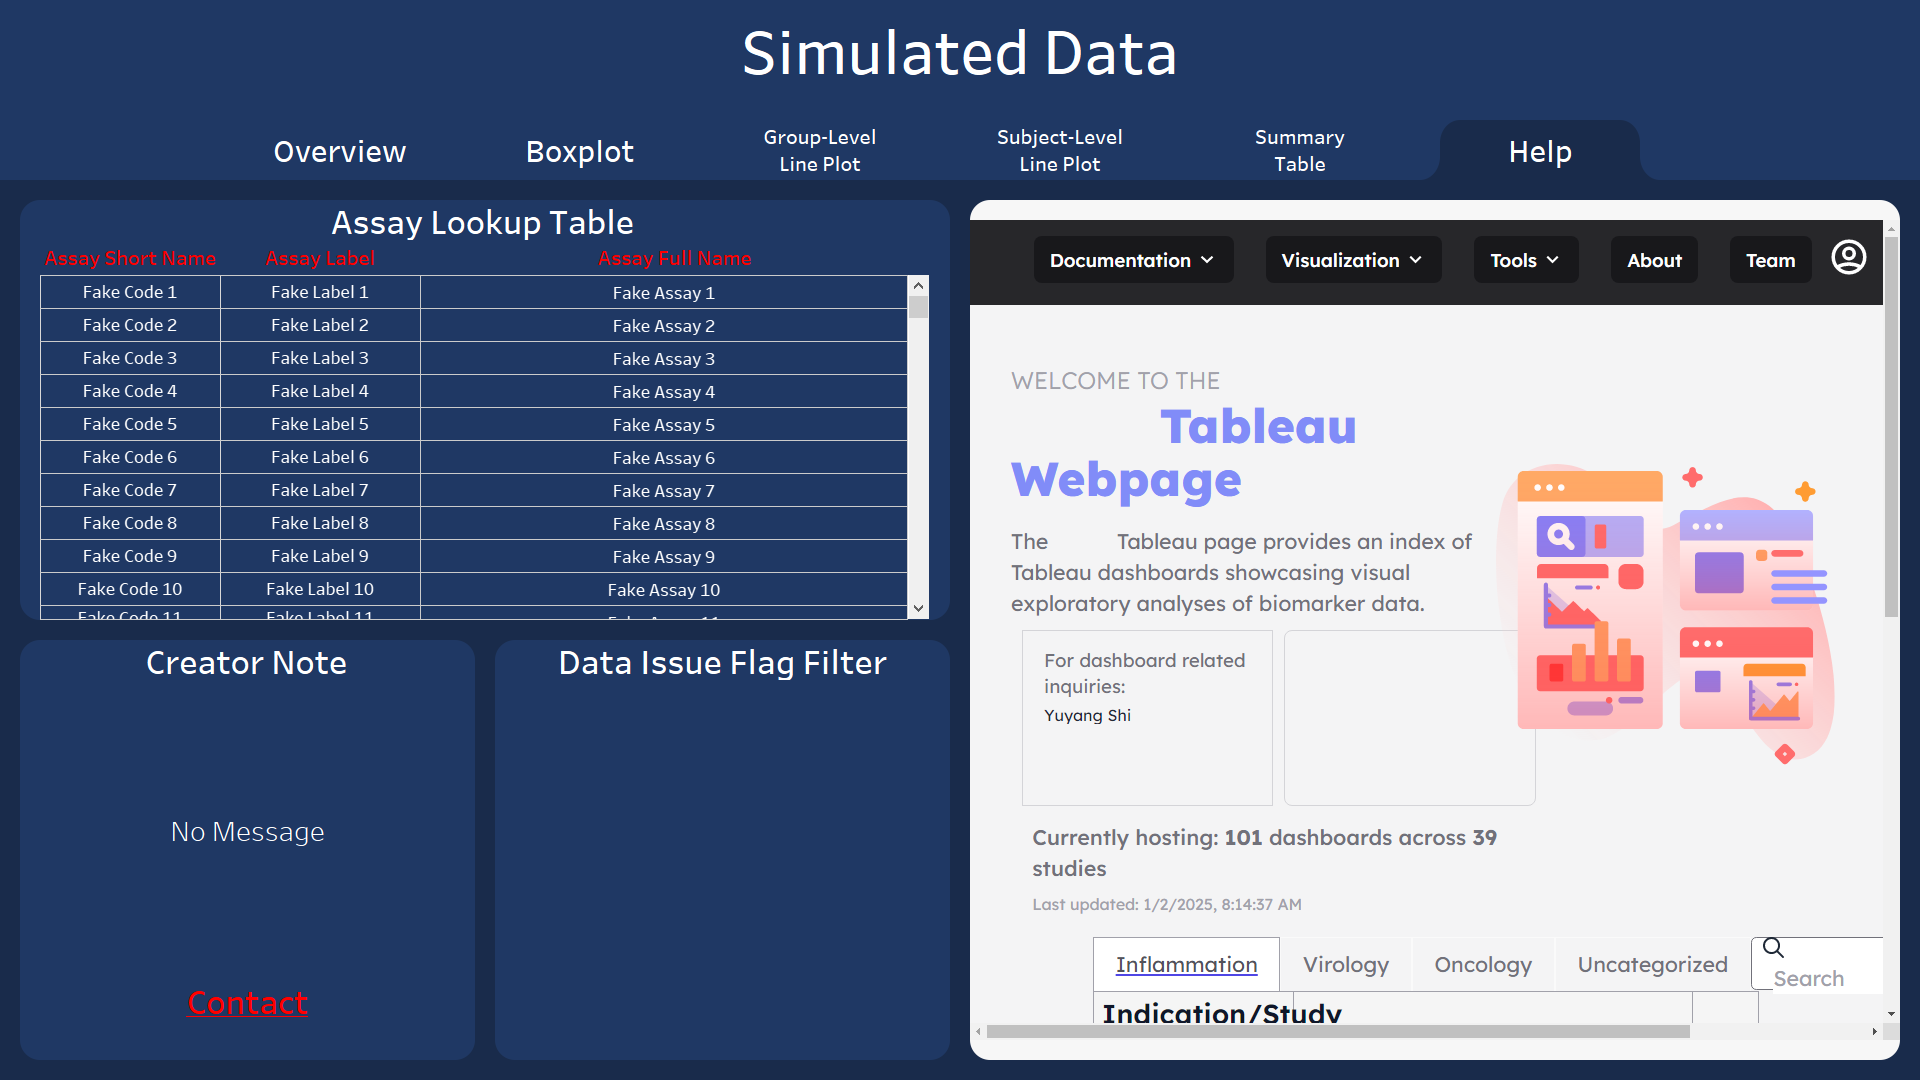

The page's visual inventory and layout, read from the dashboard file:
{"tool":"tableau","page":{"name":"Page 6","canvas":[1920,1080],"ordinal":5},"visuals":[{"type":"image","param":"./Images/Page 6.png","box":[0,0,1920,1080]},{"type":"text","box":[0,0,1920,100]},{"type":"image","param":"./Images/Logo.png","box":[1740,20,160,140]},{"type":"dashboard-object","box":[260,120,160,60]},{"type":"dashboard-object","box":[500,120,160,60]},{"type":"dashboard-object","box":[740,120,160,60]},{"type":"dashboard-object","box":[980,120,160,60]},{"type":"dashboard-object","box":[1220,120,160,60]},{"type":"dashboard-object","box":[1460,120,160,60]},{"type":"text","box":[40,200,885,40]},{"type":"text","box":[970,220,930,820]},{"type":"web page","param":"https://cbea.gilead.com/tableau","box":[970,220,930,820]},{"type":"text","box":[40,240,180,35]},{"type":"text","box":[220,240,200,35]},{"type":"text","box":[420,240,509,35]},{"type":"worksheet","title":"Assay Lookup Table","mark":"Automatic","rows":["Assay Short Name","Assay Label"],"box":[40,275,890,345]},{"type":"text","box":[19,640,455,40]},{"type":"text","box":[495,640,455,40]},{"type":"text","box":[20,680,455,300]},{"type":"blank","box":[495,680,455,380]},{"type":"text","box":[20,980,455,40]},{"type":"text","box":[20,1021,454,39]}]}

Visuals, with their boxes in screenshot pixels (x1, y1, x2, y2), scaled from the page's 1920x1080 canvas onto the 1920x1080 screenshot:
image: region(0, 0, 1919, 1079)
text: region(0, 0, 1919, 100)
image: region(1740, 20, 1900, 160)
dashboard-object: region(260, 120, 420, 180)
dashboard-object: region(500, 120, 660, 180)
dashboard-object: region(740, 120, 900, 180)
dashboard-object: region(980, 120, 1140, 180)
dashboard-object: region(1220, 120, 1380, 180)
dashboard-object: region(1460, 120, 1620, 180)
text: region(40, 200, 925, 240)
text: region(970, 220, 1900, 1040)
web page: region(970, 220, 1900, 1040)
text: region(40, 240, 220, 275)
text: region(220, 240, 420, 275)
text: region(420, 240, 929, 275)
"Assay Lookup Table" worksheet: region(40, 275, 930, 620)
text: region(19, 640, 474, 680)
text: region(495, 640, 950, 680)
text: region(20, 680, 475, 980)
blank: region(495, 680, 950, 1060)
text: region(20, 980, 475, 1020)
text: region(20, 1021, 474, 1060)
